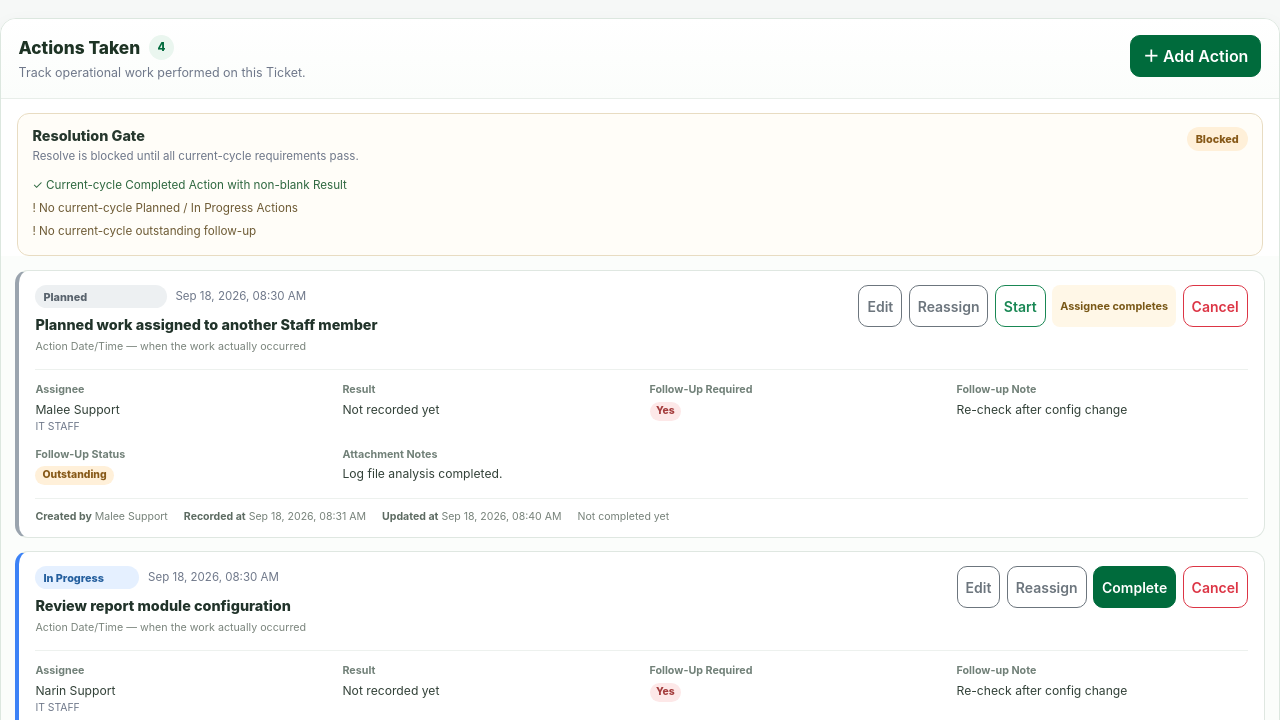
Test: Lab 4 Actions Taken Ticket Detail UI › AT-UI-05: active lifecycle controls enforce assignee-only Complete, validate Result, and terminal rows are read-only
This screenshot has width=1280, height=720.
Expected: the heading "Planned work assigned to another Staff member" is shown, [35,315,378,334]
Expected: the button "Start" is shown, [995,285,1046,327]
Click the button "Complete": (1135, 587) [1093,566,1176,608]
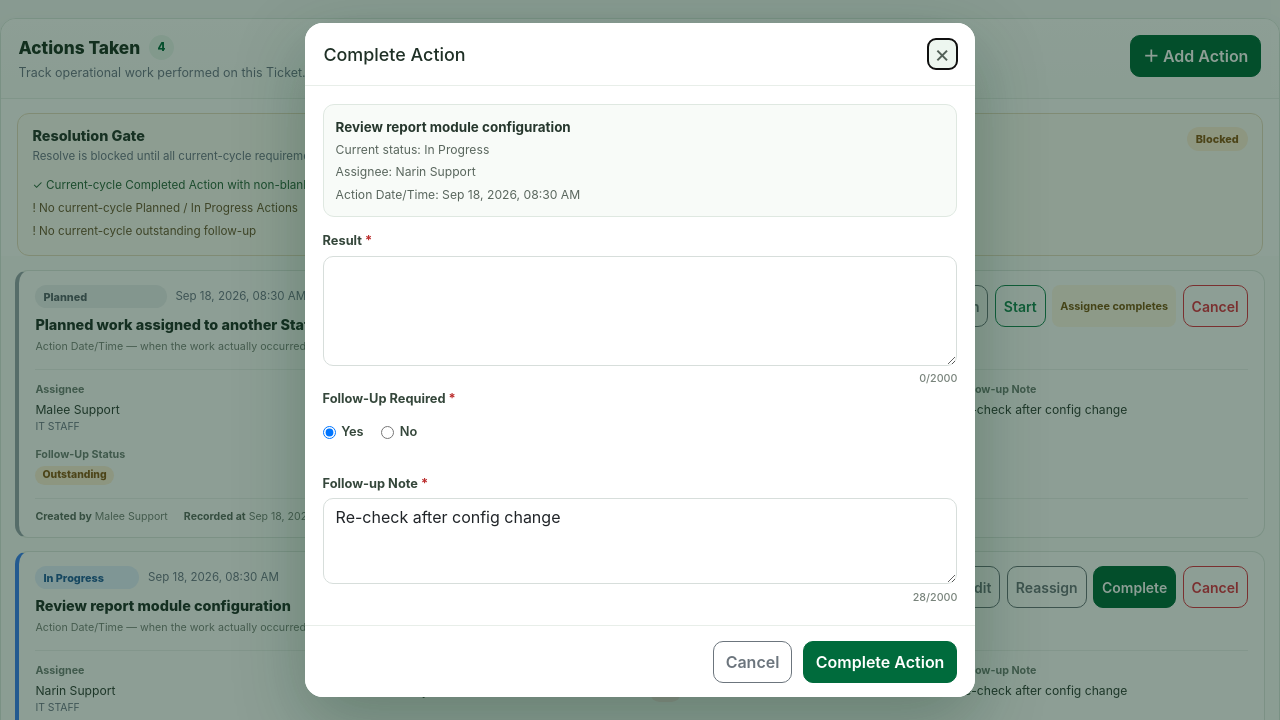
Click the button "Complete Action": (880, 662) [803,640,957,682]
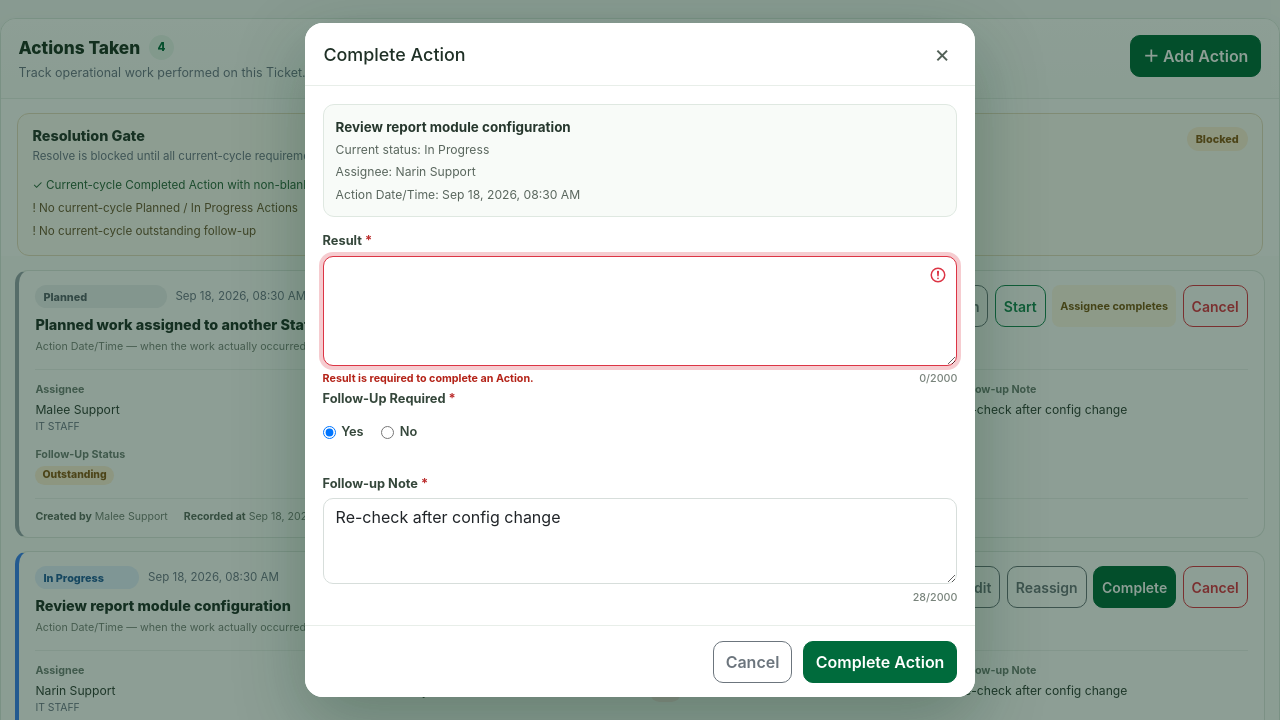
Now the text "Result is required to complete an Action." is shown, box [323,371,534,389]
